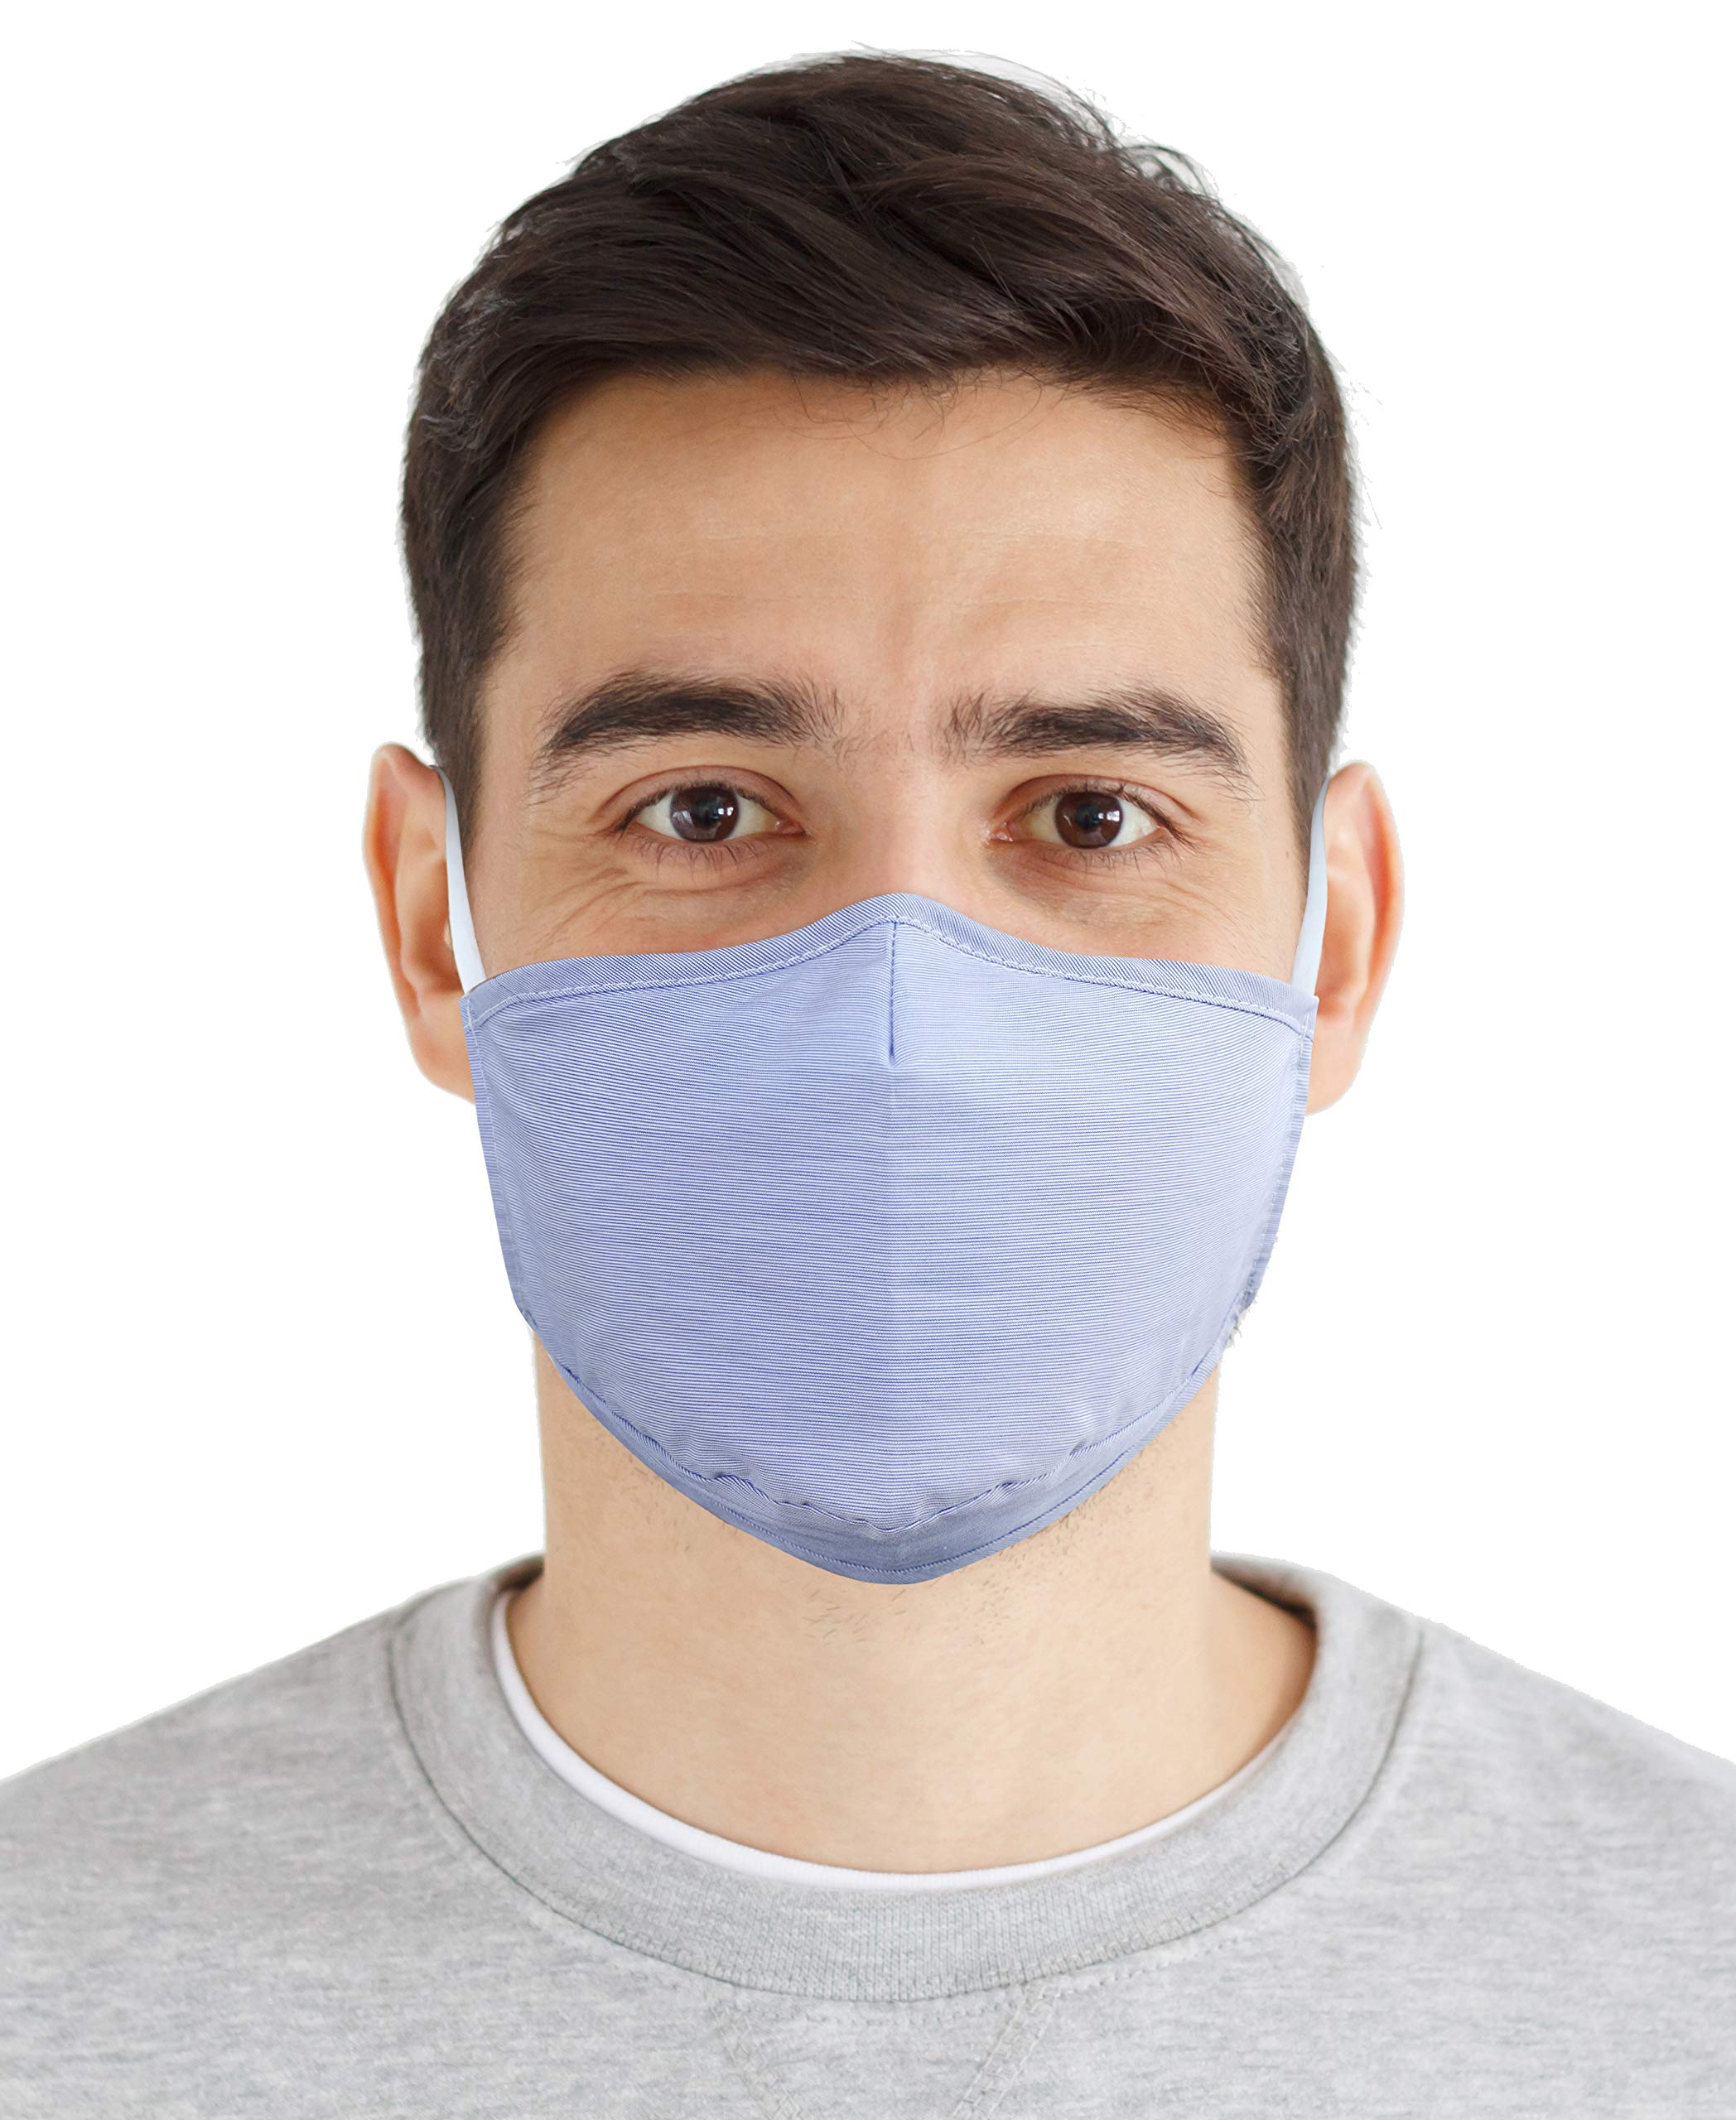with_mask: (404, 364, 1368, 1616)
